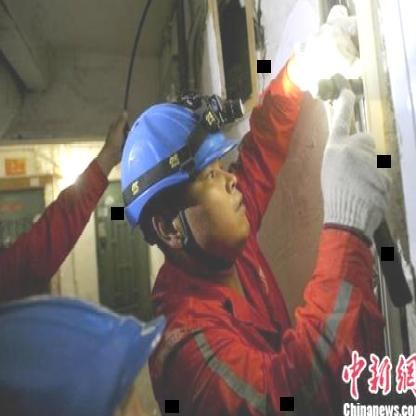helmet: (114, 99, 254, 269)
